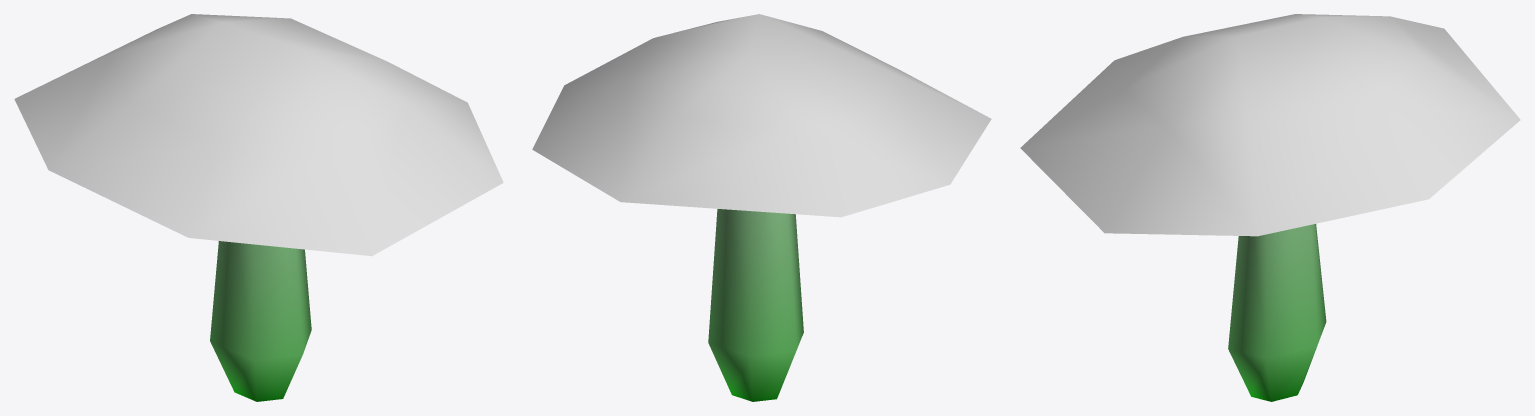
File: PT_Caesars_Mushroom_01.fbx
The picture shows the model from 3 angles, left to right: view 1: azimuth 30°, elevation 25°; view 2: azimuth 150°, elevation 25°; view 3: azimuth 270°, elevation 25°; orthographic projection. The views are drawn at different scales.
Visible parts, largest first — view 1: PT_Caesars_Mushroom_01; view 2: PT_Caesars_Mushroom_01; view 3: PT_Caesars_Mushroom_01.
Boxes of the visible parts, x1,y1,x2,y2 form: PT_Caesars_Mushroom_01: (14, 14, 503, 401); PT_Caesars_Mushroom_01: (532, 14, 991, 401); PT_Caesars_Mushroom_01: (1020, 14, 1520, 401).
Bounding box in the file's own units: 33.42 × 28.59 × 35.41.
